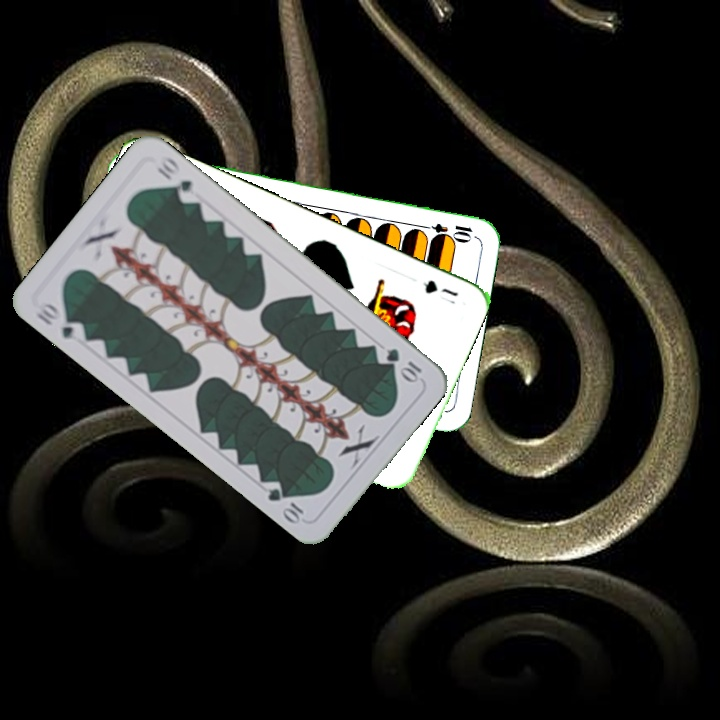E10: (416, 219, 475, 243)
G10: (29, 297, 88, 345), (382, 344, 425, 385)
GU: (418, 275, 461, 307)
